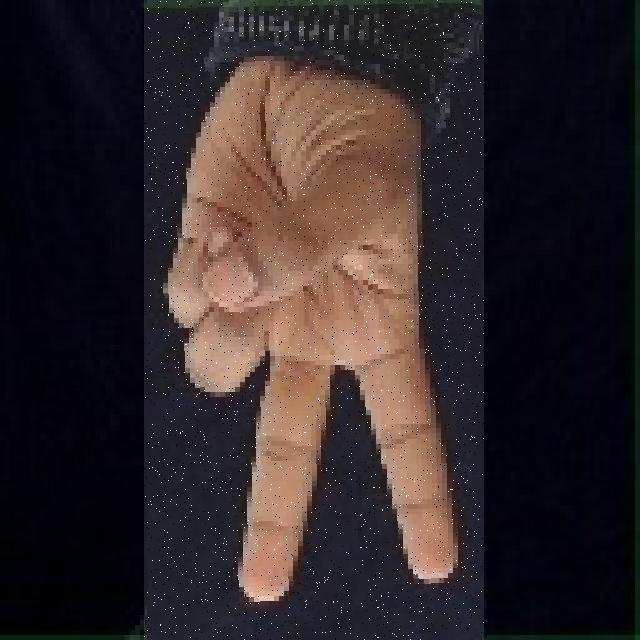No: (144, 0, 484, 640)
